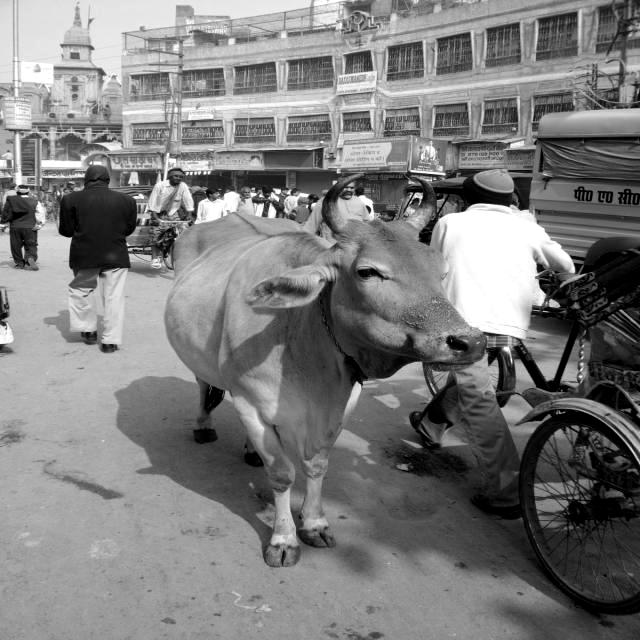COW: (165, 174, 485, 566)
